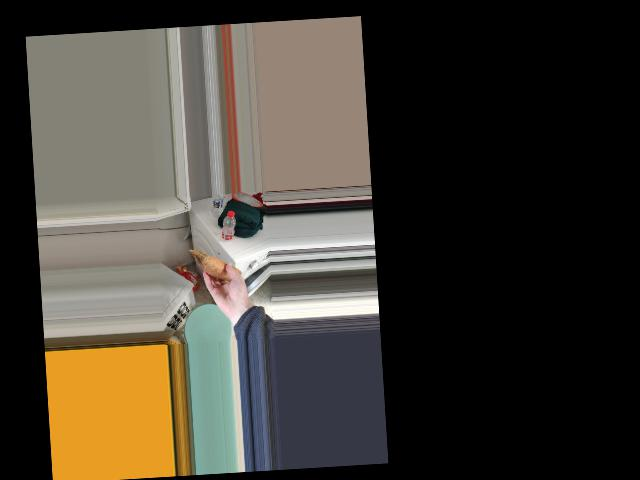sweet_potato: (203, 253, 237, 286)
